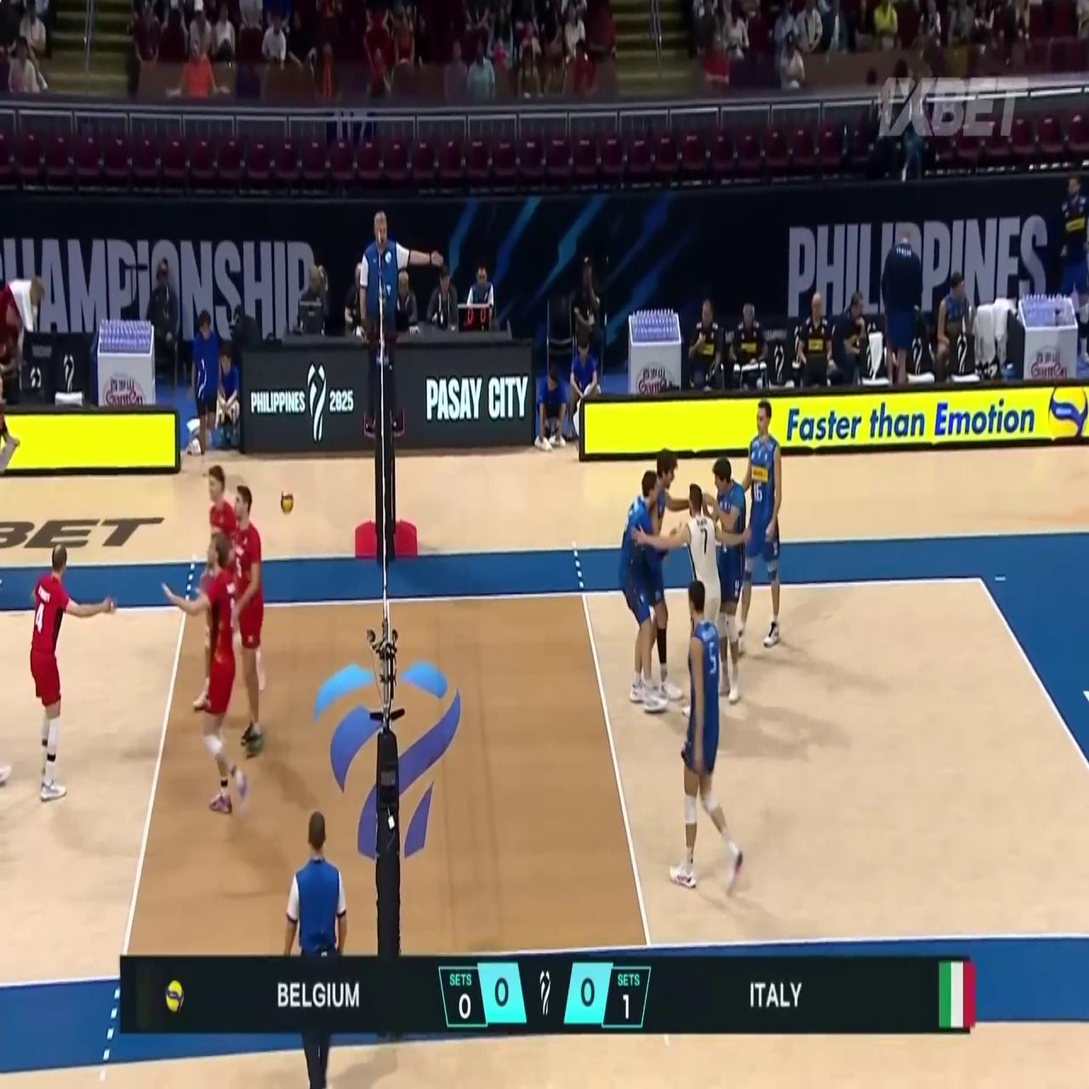ball: (279, 487, 295, 516)
